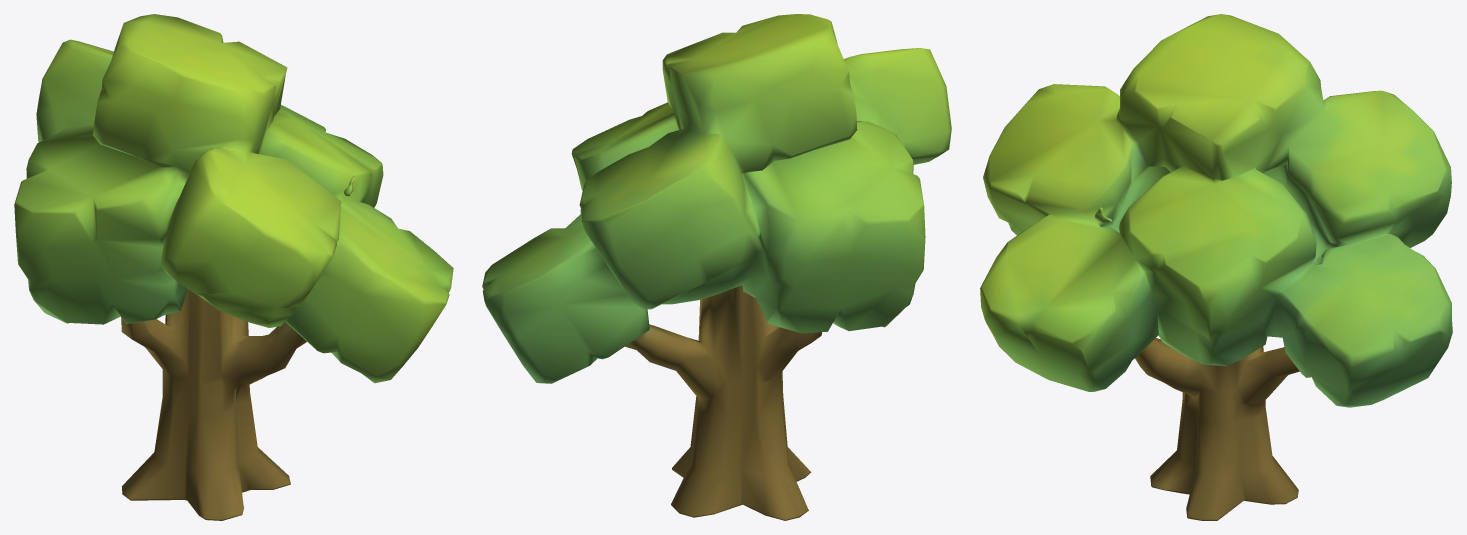
The model's file is tripo_raw.glb.
The picture shows the model from 3 angles, left to right: view 1: azimuth 30°, elevation 25°; view 2: azimuth 150°, elevation 25°; view 3: azimuth 270°, elevation 25°; orthographic projection. The views are drawn at different scales.
Visible parts, largest first — view 1: tripo_node_e3025946-7530-4d1f-8afa-0e0b46fe6bf5; view 2: tripo_node_e3025946-7530-4d1f-8afa-0e0b46fe6bf5; view 3: tripo_node_e3025946-7530-4d1f-8afa-0e0b46fe6bf5.
Part boxes in pixels (left/top/right/bottom): tripo_node_e3025946-7530-4d1f-8afa-0e0b46fe6bf5: left=14, top=14, right=453, bottom=520; tripo_node_e3025946-7530-4d1f-8afa-0e0b46fe6bf5: left=482, top=14, right=951, bottom=520; tripo_node_e3025946-7530-4d1f-8afa-0e0b46fe6bf5: left=980, top=14, right=1452, bottom=520.
Bounding box in the file's own units: 0.816 × 1 × 0.9785.
1 material, 1 textured.
